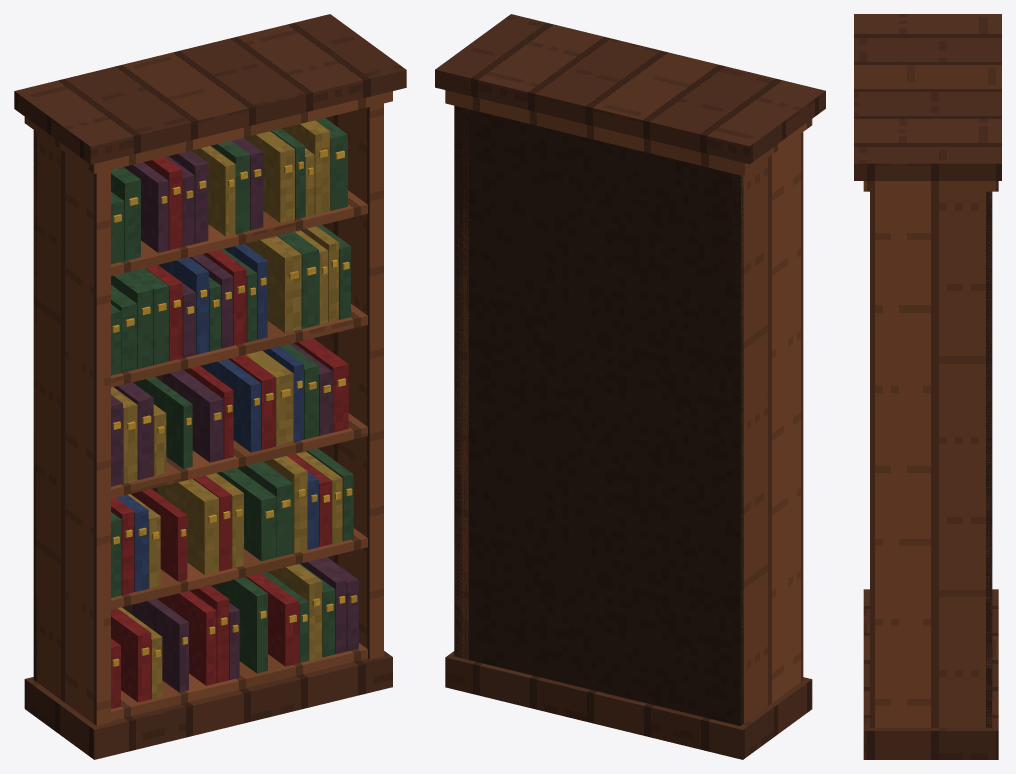
Rendered from bookcase.glb.
The picture shows the model from 3 angles, left to right: view 1: azimuth 30°, elevation 25°; view 2: azimuth 150°, elevation 25°; view 3: azimuth 270°, elevation 25°; orthographic projection. The views are drawn at different scales.
Visible parts, largest first — view 1: Bookcase; view 2: Bookcase; view 3: Bookcase.
Boxes of the visible parts, x1,y1,x2,y2 form: Bookcase: (14,14,406,759); Bookcase: (435,14,825,759); Bookcase: (854,14,1001,759).
Bounding box in the file's own units: 1.1 × 2.06 × 0.46.
Materials: 9 (9 with a texture image).
